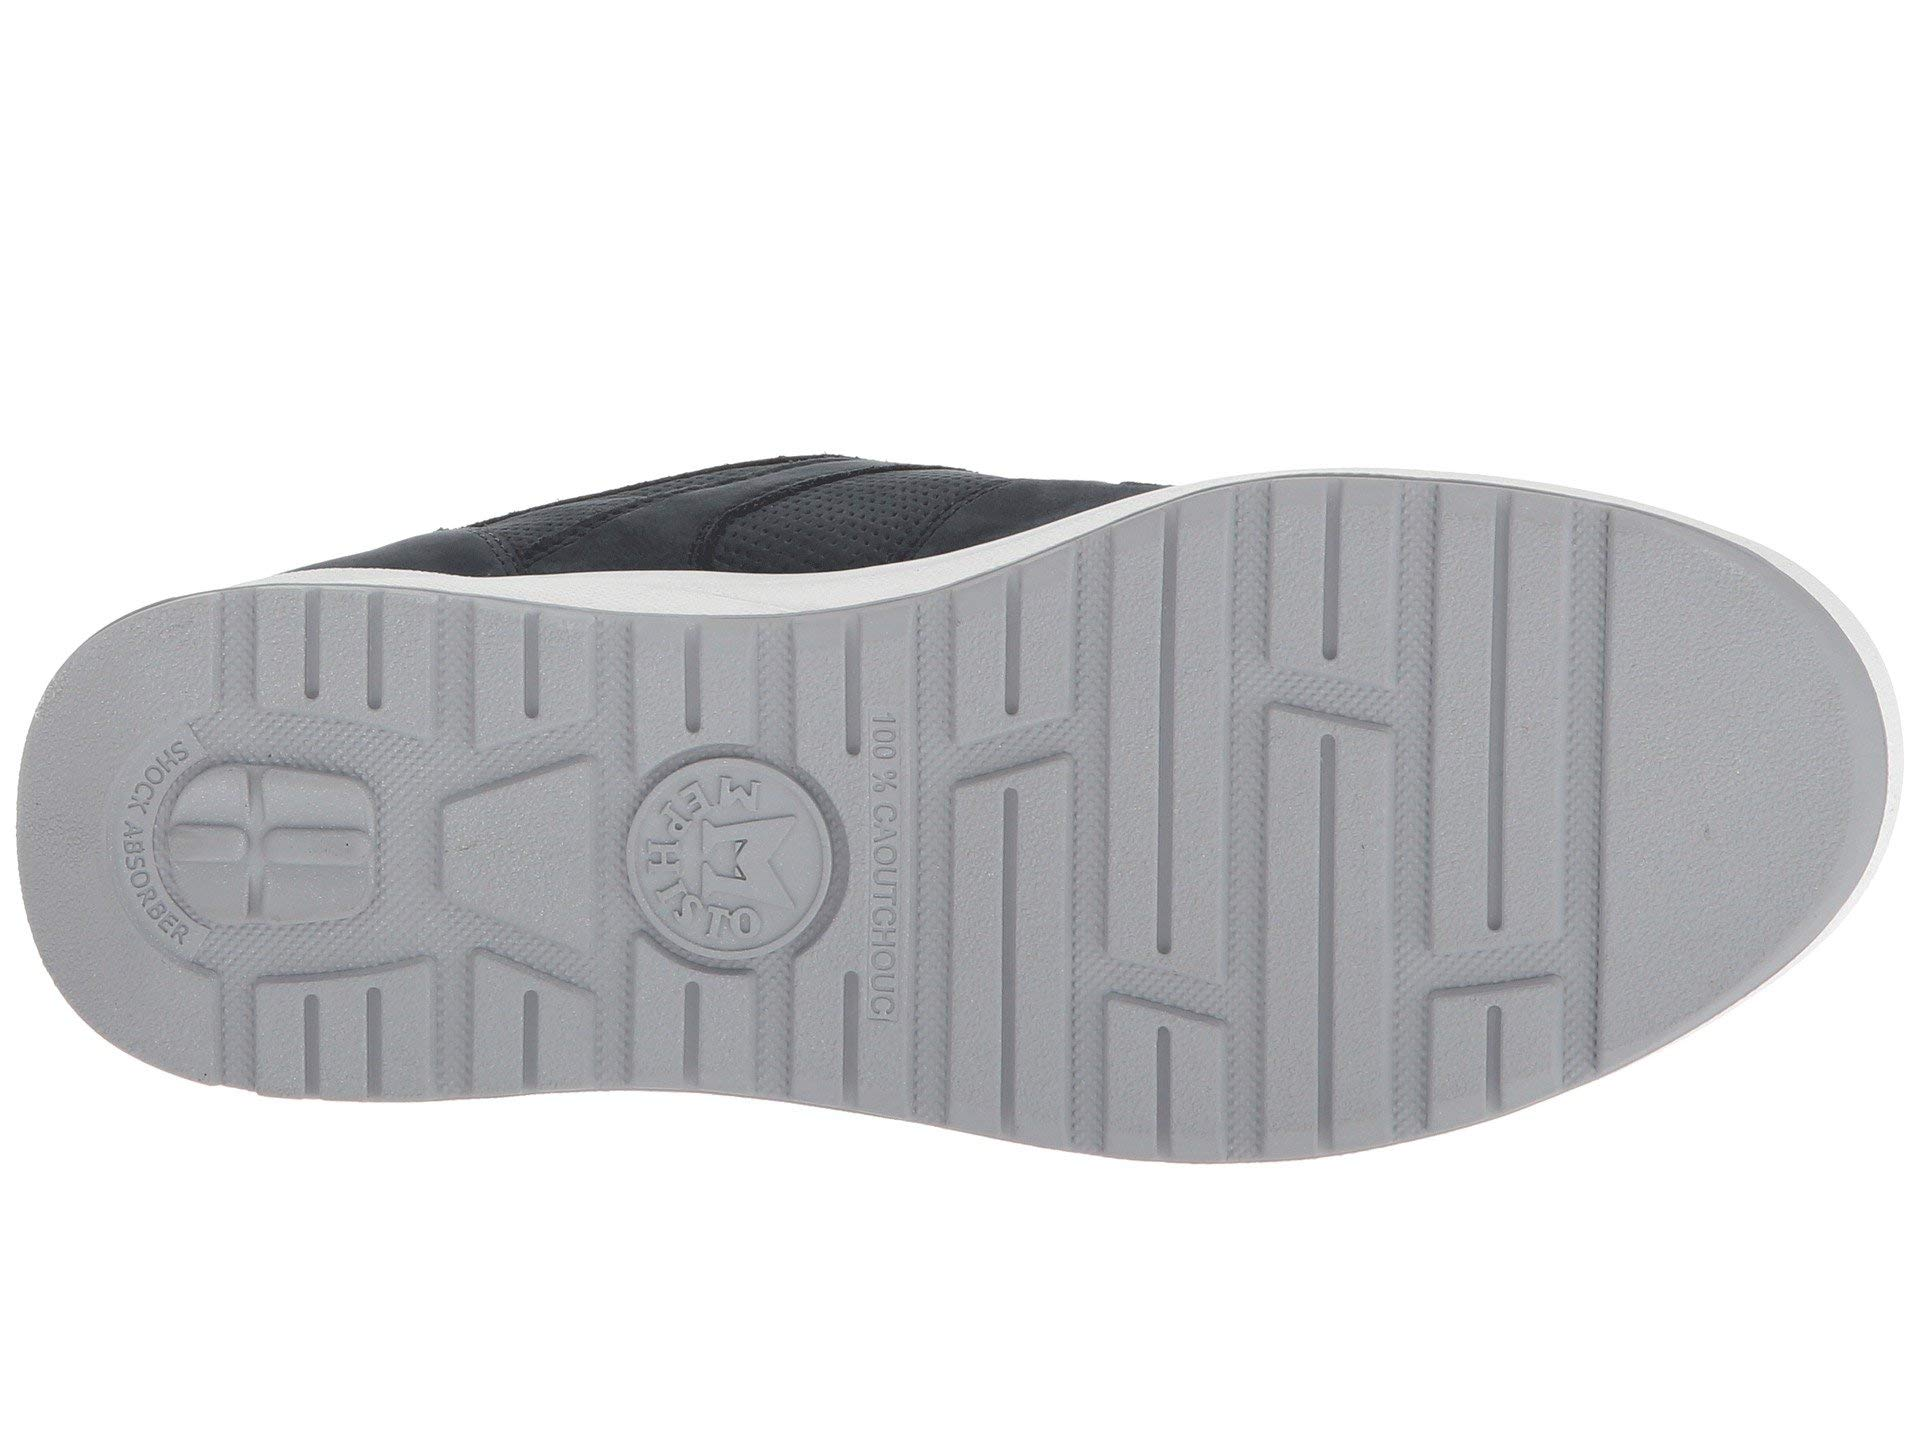circle: (1432, 481, 1577, 971), (615, 743, 836, 967), (408, 749, 612, 951), (860, 703, 919, 1042)
line: (1432, 481, 1577, 971), (615, 743, 836, 967), (1154, 501, 1190, 957)
quad: (1432, 481, 1577, 971), (408, 749, 612, 951), (860, 703, 919, 1042)
text: (615, 743, 836, 967), (860, 703, 919, 1042)
